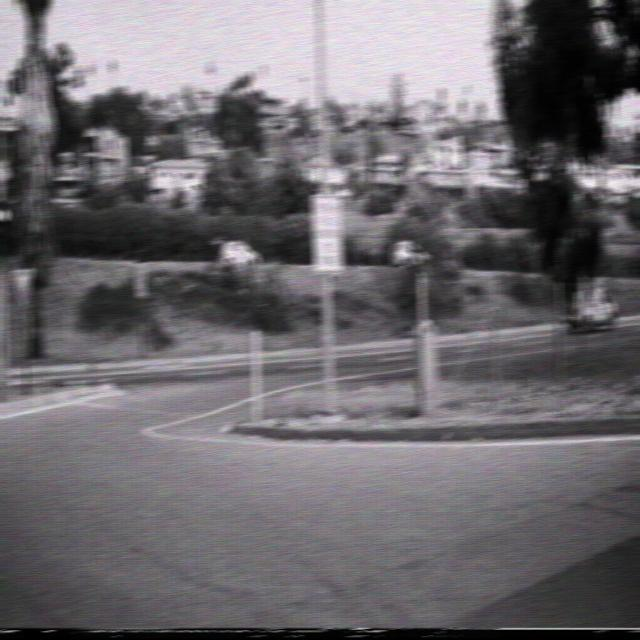yield: (8, 266, 34, 305)
